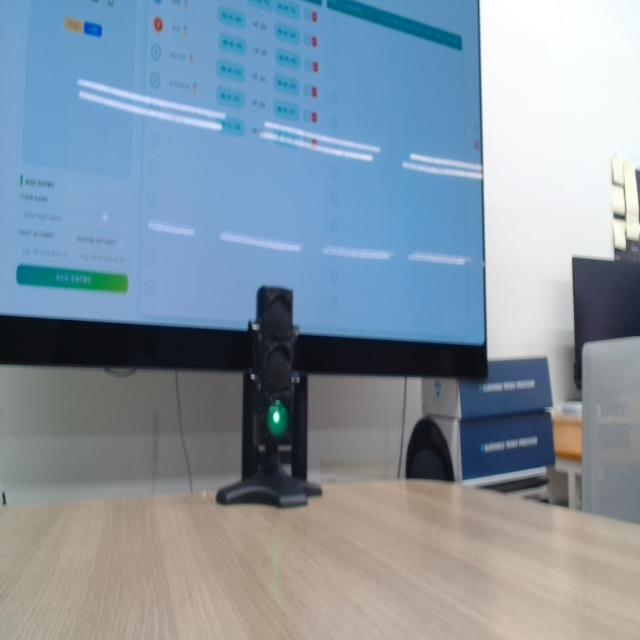green_light: (267, 400, 288, 439)
